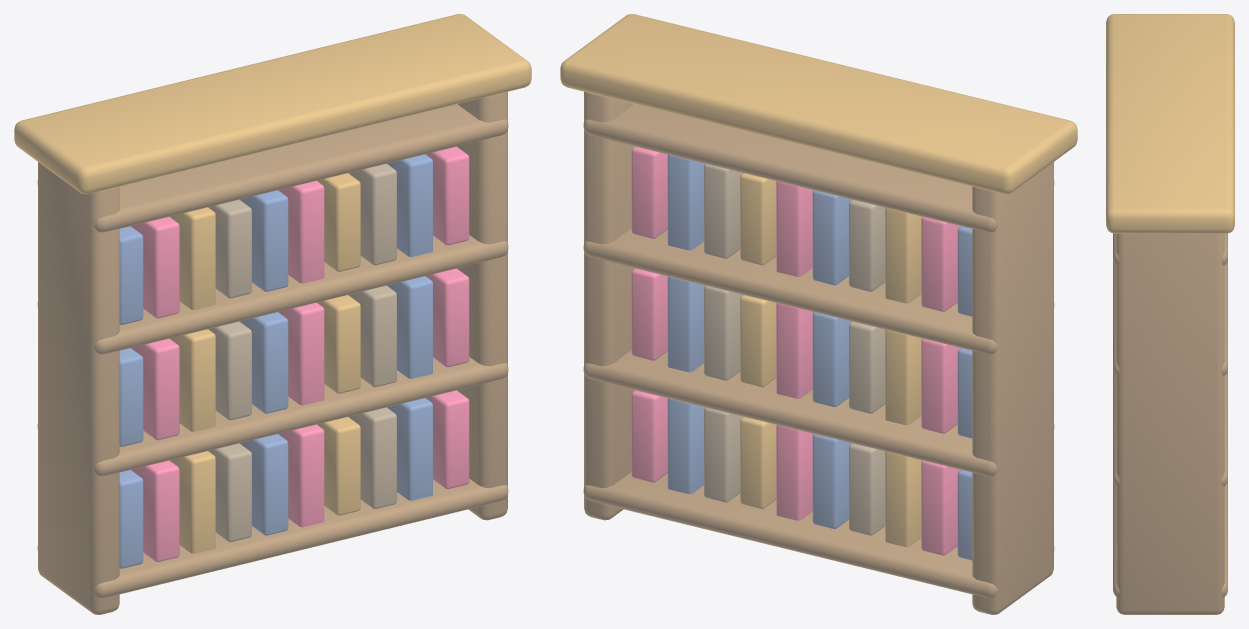
Rendered from castle_detail_shelf_purified.glb.
3 renders of one model, left to right at view 1: azimuth 30°, elevation 25°; view 2: azimuth 150°, elevation 25°; view 3: azimuth 270°, elevation 25°, orthographic. The views are drawn at different scales.
Visible parts, largest first — view 1: castle_detail_shelf_purified_surface; view 2: castle_detail_shelf_purified_surface; view 3: castle_detail_shelf_purified_surface.
Boxes of the visible parts, x1,y1,x2,y2 form: castle_detail_shelf_purified_surface: (14,14,531,614); castle_detail_shelf_purified_surface: (560,14,1077,614); castle_detail_shelf_purified_surface: (1106,14,1234,614).
Size of the model in its own units: 3.5 by 3.37 by 0.95.
